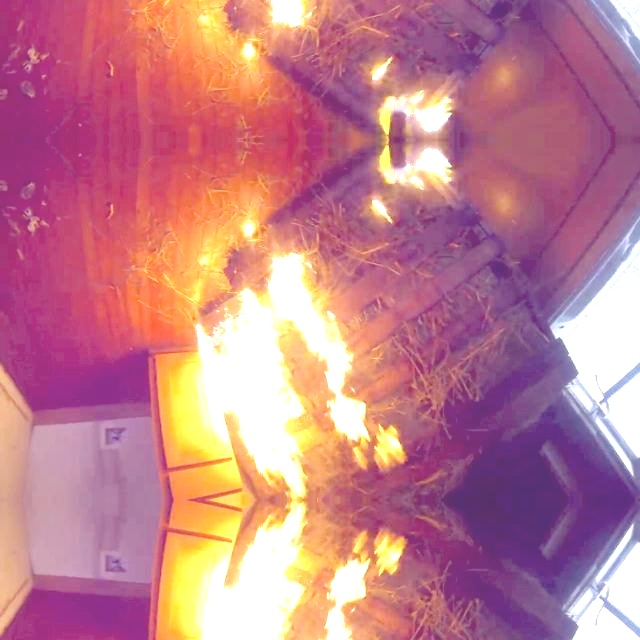fire: (173, 180, 399, 640)
